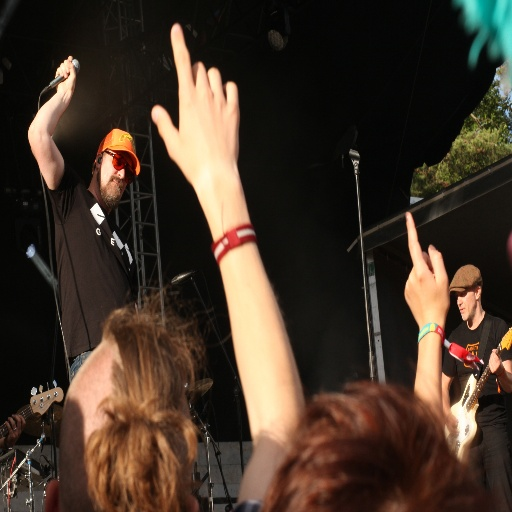hand: (149, 22, 240, 192), (408, 233, 461, 351), (54, 54, 77, 100), (488, 348, 504, 378), (445, 411, 460, 437)
